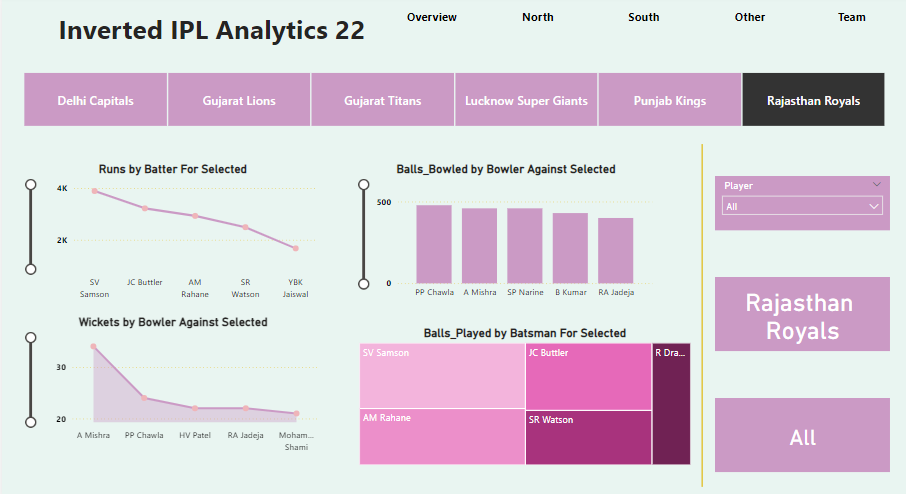

This screenshot's page, from the dashboard's own definition file:
{"tool":"powerbi","page":{"name":"North","canvas":[1280,720],"ordinal":1},"visuals":[{"type":"slicer","fields":{"Values":["deliveries.batting_team"]},"box":[5.4,101.9,1269.3,89.4],"z":0},{"type":"slicer","fields":{"Values":["deliveries.batter"]},"box":[1010.1,255.6,248.5,76.9],"z":1000},{"type":"card","fields":{"Values":["deliveries.Selected Team"]},"box":[1010.1,398.7,248.5,105.5],"z":2000},{"type":"lineChart","title":"Runs by Batter For Selected","fields":{"Category":["deliveries.batter"],"Y":["deliveries.total_runs"]},"box":[30.4,236,425,202],"z":3000},{"type":"areaChart","title":"Wickets by Bowler Against Selected","fields":{"Category":["deliveries.bowler"],"Y":["deliveries.is_wicket"]},"box":[30,452.3,425.5,202],"z":4000},{"type":"treemap","title":"Balls_Played by Batsman For Selected","fields":{"Group":["deliveries.batter"],"Values":["deliveries.inning"]},"box":[502,468.4,479.1,202],"z":5000},{"type":"columnChart","title":"Balls_Bowled by Bowler Against Selected","fields":{"Category":["deliveries.bowler"],"Y":["deliveries.over"]},"box":[502.3,236,425.5,202],"z":6000},{"type":"card","fields":{"Values":["deliveries.Selected Player"]},"box":[1010.1,570.3,248.5,105.5],"z":7000},{"type":"shape","box":[964,209.2,57.2,486.3],"z":8000},{"type":"shape","box":[534.5,0,150.2,59],"z":9000},{"type":"shape","box":[684.7,0,150.2,59],"z":10000},{"type":"shape","box":[834.9,0,150.2,59],"z":11000},{"type":"shape","box":[985,0,150.2,59],"z":12000},{"type":"shape","box":[1129.8,0,150.2,59],"z":13000},{"type":"textbox","box":[51.8,16.1,500.6,85.8],"z":14000}]}

Visuals, with their boxes on the page's 1280x720 design canvas (x1, y1, x2, y2). These are canvas units, not pixel positions in the 906x494 screenshot, which may show the page scaled, cropped or inside an application window:
slicer - deliveries.batting_team: [x1=5, y1=102, x2=1275, y2=191]
slicer - deliveries.batter: [x1=1010, y1=256, x2=1259, y2=332]
card - deliveries.Selected Team: [x1=1010, y1=399, x2=1259, y2=504]
"Runs by Batter For Selected" lineChart: [x1=30, y1=236, x2=455, y2=438]
"Wickets by Bowler Against Selected" areaChart: [x1=30, y1=452, x2=456, y2=654]
"Balls_Played by Batsman For Selected" treemap: [x1=502, y1=468, x2=981, y2=670]
"Balls_Bowled by Bowler Against Selected" columnChart: [x1=502, y1=236, x2=928, y2=438]
card - deliveries.Selected Player: [x1=1010, y1=570, x2=1259, y2=676]
shape: [x1=964, y1=209, x2=1021, y2=696]
shape: [x1=534, y1=0, x2=685, y2=59]
shape: [x1=685, y1=0, x2=835, y2=59]
shape: [x1=835, y1=0, x2=985, y2=59]
shape: [x1=985, y1=0, x2=1135, y2=59]
shape: [x1=1130, y1=0, x2=1280, y2=59]
textbox: [x1=52, y1=16, x2=552, y2=102]
